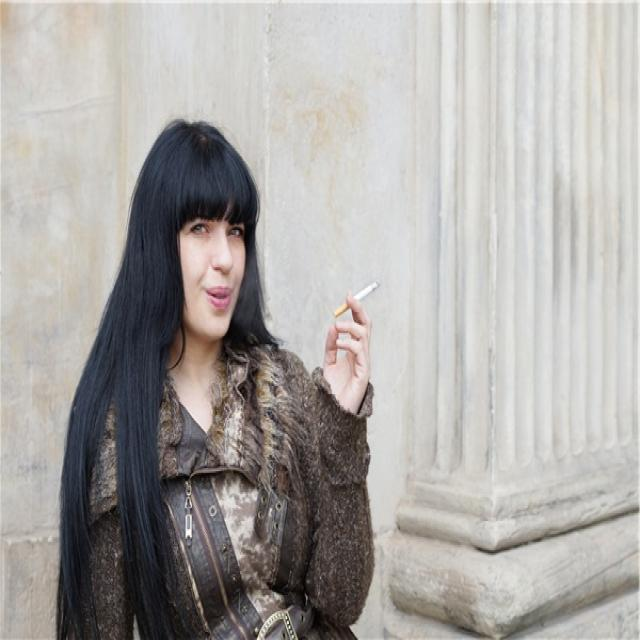smoking: (332, 281, 379, 319)
